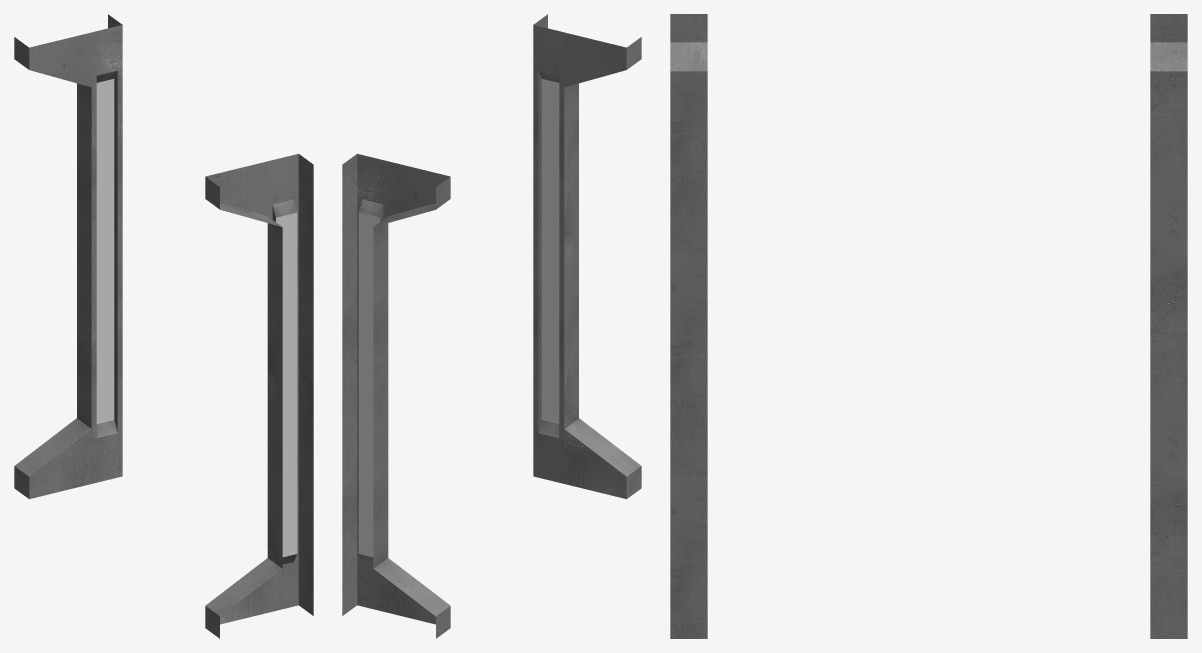
File: Light struct.fbx
3 renders of one model, left to right at view 1: azimuth 30°, elevation 25°; view 2: azimuth 150°, elevation 25°; view 3: azimuth 270°, elevation 25°, orthographic. The views are drawn at different scales.
Parts seen in each view (by area): view 1: Light_struct; view 2: Light_struct; view 3: Light_struct.
Boxes of the visible parts, box(x1,y1,x2,y2) form: Light_struct: box(14, 14, 313, 638); Light_struct: box(342, 14, 641, 638); Light_struct: box(670, 14, 1187, 638).
Size of the model in its own units: 52.79 by 244 by 201.
